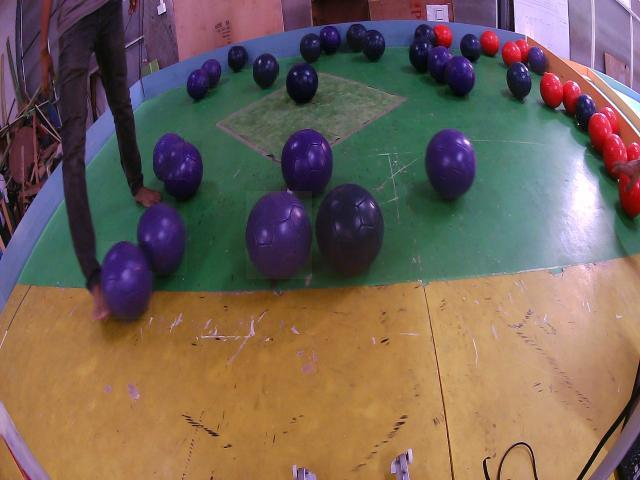jambhalya: (247, 192, 312, 279), (102, 242, 152, 319), (425, 129, 476, 199), (137, 204, 187, 275), (282, 130, 332, 198), (163, 141, 202, 201), (154, 134, 183, 180), (445, 56, 475, 96), (427, 47, 453, 83), (186, 70, 209, 101), (320, 27, 341, 54), (528, 46, 547, 74), (202, 60, 221, 87)
kaalyya: (316, 184, 384, 275), (286, 64, 319, 103), (506, 61, 531, 99), (576, 93, 597, 132), (254, 54, 278, 88), (409, 39, 432, 73), (361, 30, 385, 61), (300, 34, 322, 63), (460, 34, 481, 63), (346, 25, 366, 51), (228, 46, 247, 71), (415, 25, 436, 46)
